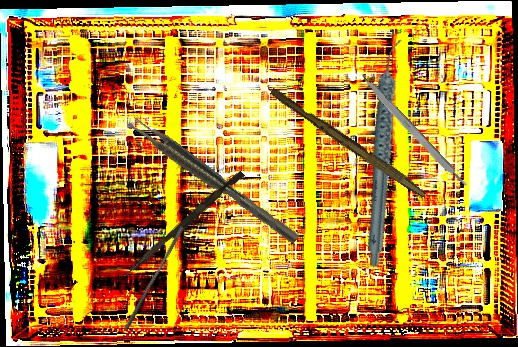Handpiece: (323, 36, 449, 270)
Pusher: (123, 167, 245, 282), (123, 224, 186, 333)
Scalpel Handle: (267, 86, 430, 199), (360, 75, 469, 191)
Tissue Forceps: (126, 112, 300, 250)
